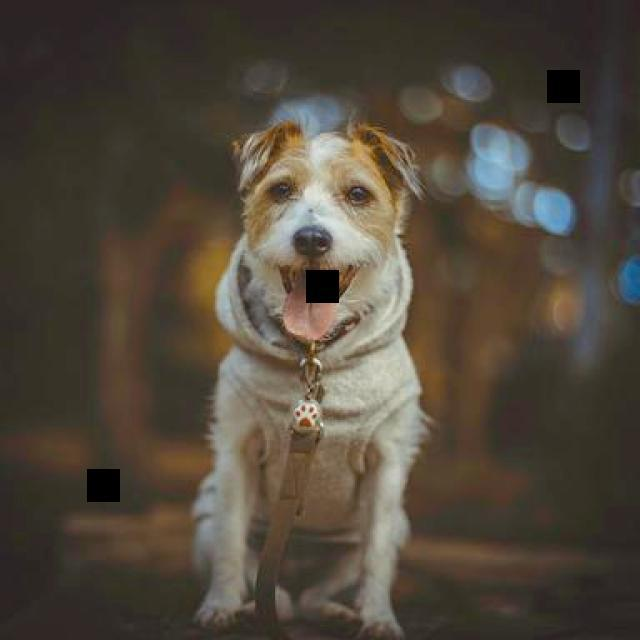adult_dog: (189, 108, 429, 640)
